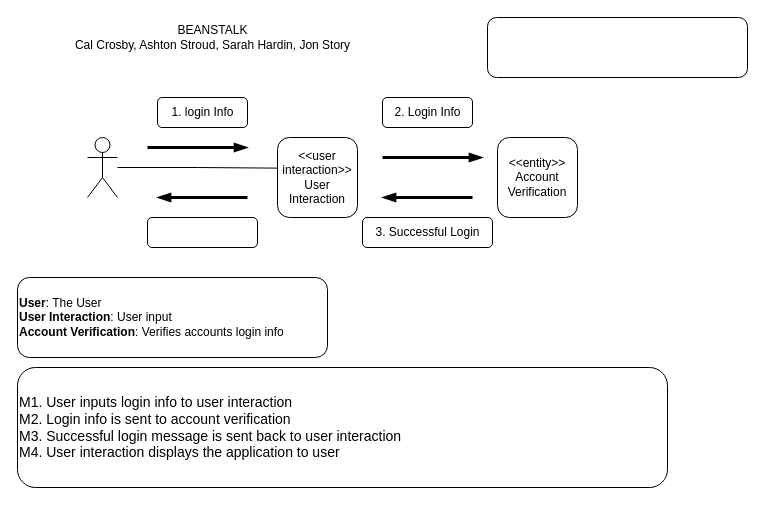
This 765x505 diagram has some shape labels left out. The shapes that lost their labels are listed below. From the top down, each one's centre as x and y in pixels, then its label:
the point at 617,47: Login Interaction Diagram
the point at 102,167: User
the point at 202,232: 4. Allow Access
